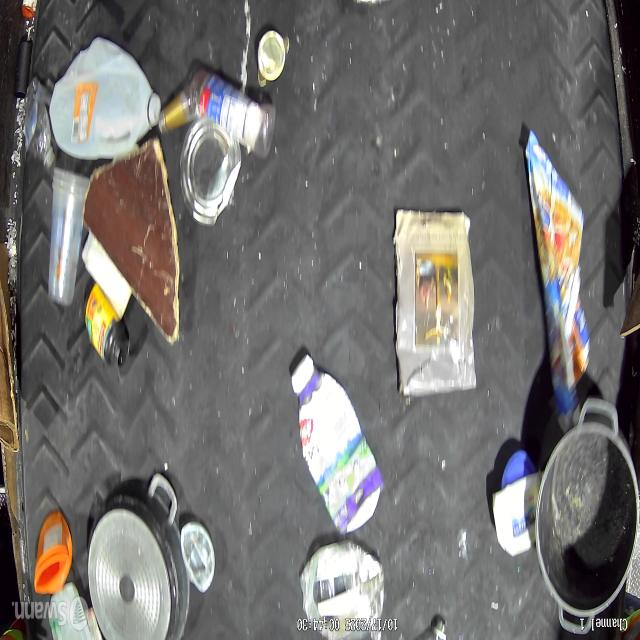can: (257, 28, 287, 89)
milk_jug: (49, 38, 158, 163)
plastic_bottle: (24, 78, 56, 168)
